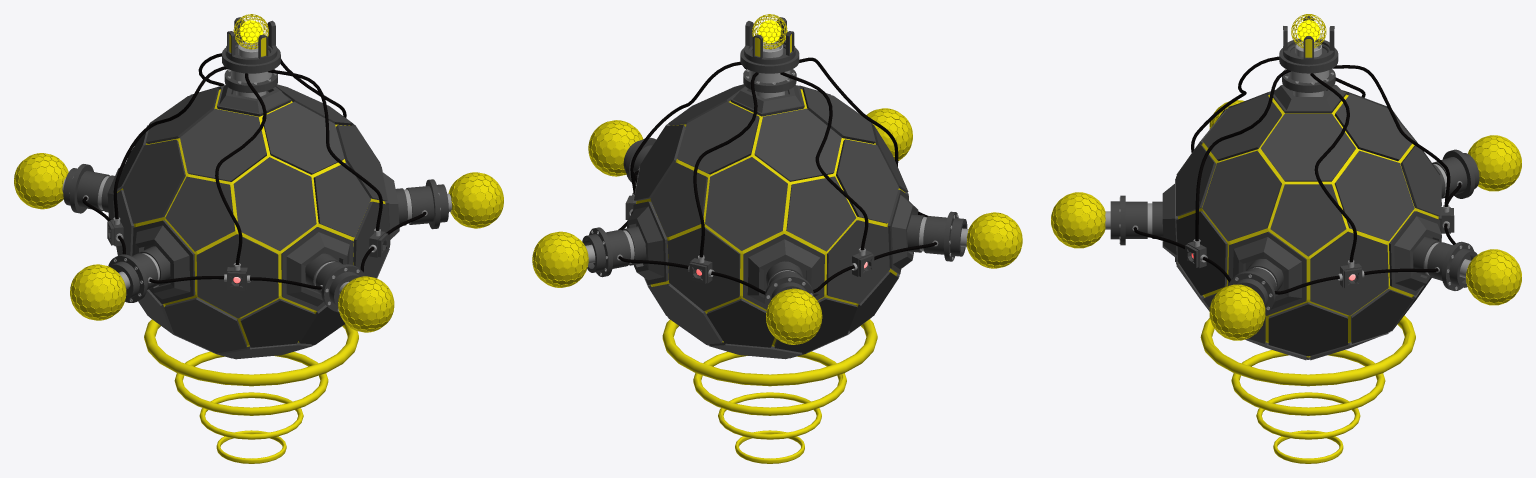
The model's file is Reactor-transformed.glb.
The picture shows the model from 3 angles, left to right: view 1: azimuth 30°, elevation 25°; view 2: azimuth 150°, elevation 25°; view 3: azimuth 270°, elevation 25°; orthographic projection.
Visible parts, largest first — view 1: Cylinder.007; view 2: Cylinder.007; view 3: Cylinder.007.
Part boxes in pixels (box(x1,y1,x2,y2)): Cylinder.007: box(14, 14, 503, 463); Cylinder.007: box(532, 14, 1022, 463); Cylinder.007: box(1051, 14, 1521, 463).
Size of the model in its own units: 3.27 by 3.18 by 3.13.
Materials: 3 (3 with a texture image).
